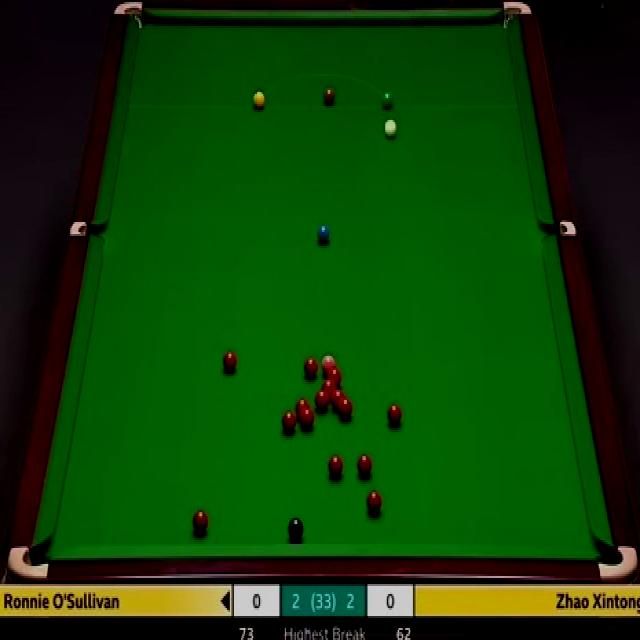black-ball: (288, 514, 304, 542)
blue-ball: (316, 222, 330, 246)
brown-ball: (322, 88, 334, 106)
green-ball: (382, 90, 393, 110)
pink-ball: (321, 354, 337, 371)
red-ball: (192, 510, 210, 535), (365, 490, 382, 516), (303, 355, 319, 381), (300, 407, 316, 429), (356, 454, 372, 476), (328, 455, 344, 477), (339, 396, 353, 420), (388, 404, 403, 426), (222, 349, 236, 372), (282, 411, 296, 432), (314, 391, 329, 408), (331, 390, 346, 407), (295, 396, 309, 414), (320, 379, 338, 392), (326, 369, 344, 380)
white-ball: (382, 118, 398, 140)
yellow-ball: (252, 89, 267, 110)
